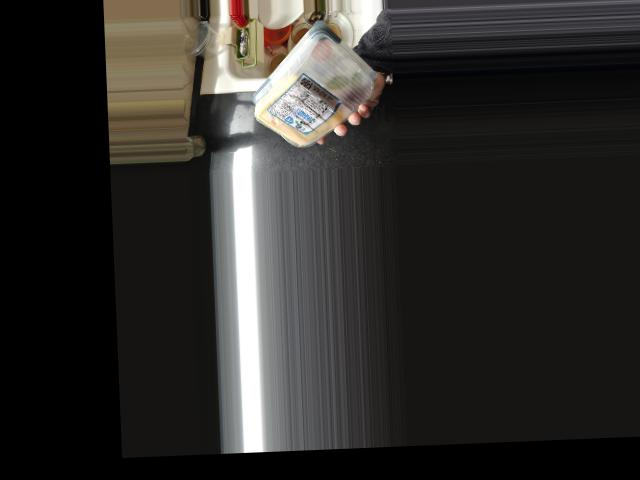cheese: (249, 36, 378, 141)
